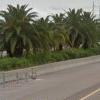Palm tree: (2, 2, 47, 59)
